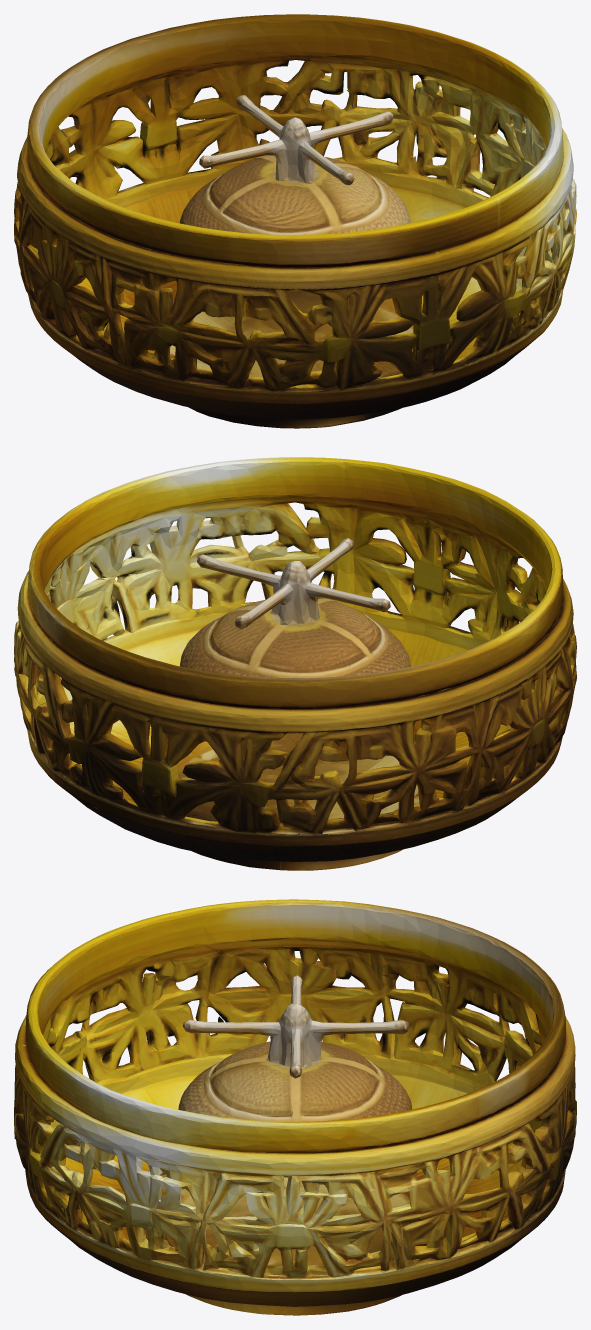
The model's file is bamboo-tea-infuser-art-deco.jpeg.glb.
3 views of the same model, one above another, from view 1: azimuth 30°, elevation 25°; view 2: azimuth 150°, elevation 25°; view 3: azimuth 270°, elevation 25° (orthographic).
Parts seen in each view (by area): view 1: world; view 2: world; view 3: world.
Part boxes in pixels (x1,y1,x2,y2): world: (14,14,576,428); world: (14,457,576,870); world: (14,899,576,1315).
Bounding box in the file's own units: 0.9983 × 0.4949 × 0.9999.
1 material, 1 textured.
